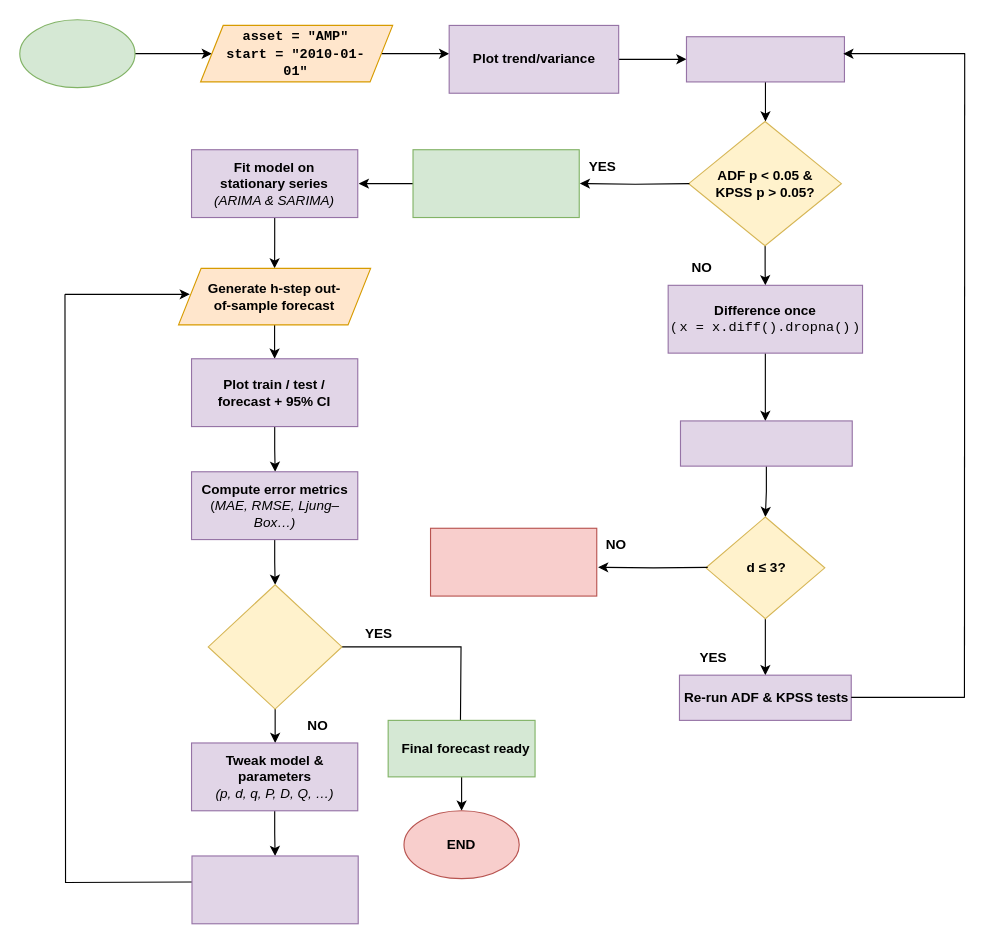
Some shapes in this 994 by 944 pixel diagram are drawn without their labels. Each missing label, with the centre of its shape:
"Errors acceptable? ( RMSE ≤ threshold)" goes at point (274, 646).
"Increase d by 1" goes at point (765, 443).
"Re-fit forecasting model" goes at point (274, 889).
"Set d = 0" goes at point (764, 59).
"START" goes at point (77, 53).
"STOP Series is stationary (report current d)" goes at point (495, 183).
"STOP Stationarity not achieved (d > 3; try transforms)" goes at point (513, 561).
